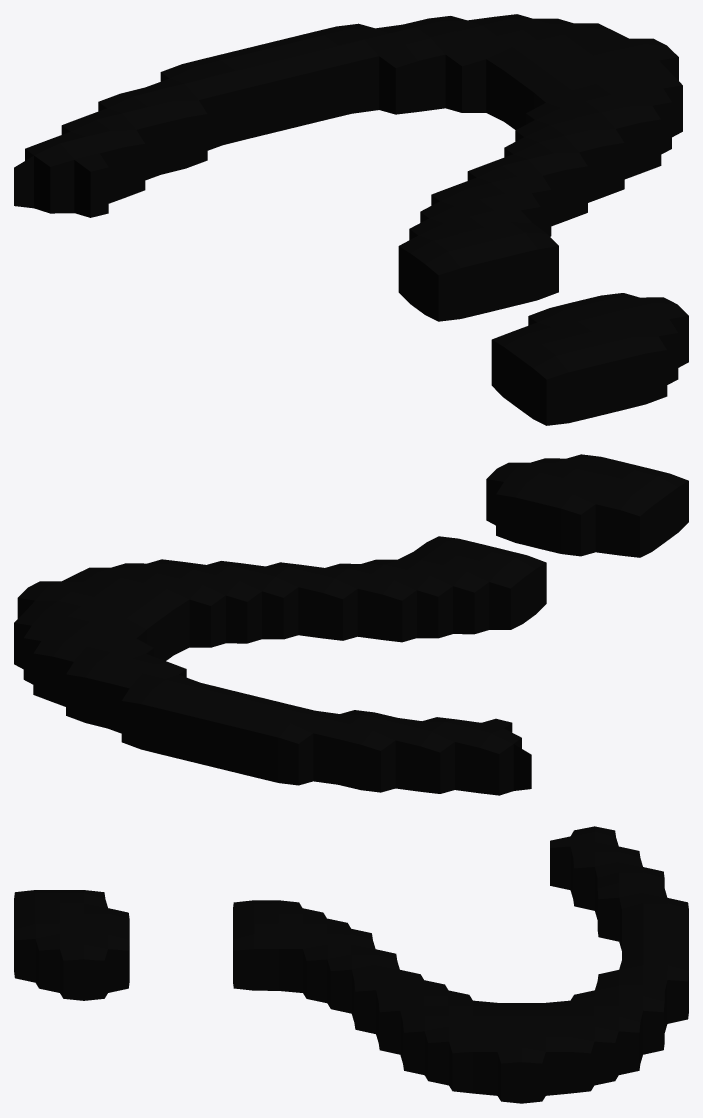
File: question.gltf
The picture shows the model from 3 angles, top to bottom: view 1: azimuth 30°, elevation 25°; view 2: azimuth 150°, elevation 25°; view 3: azimuth 270°, elevation 25°; orthographic projection. The views are drawn at different scales.
Parts seen in each view (by area): view 1: Plane; view 2: Plane; view 3: Plane.
Part boxes in pixels (<box>): Plane: <box>14,14,688,425</box>; Plane: <box>14,454,688,795</box>; Plane: <box>14,826,688,1103</box>.
Size of the model in its own units: 1.48 by 0.1532 by 1.73.
1 material, 1 textured.
